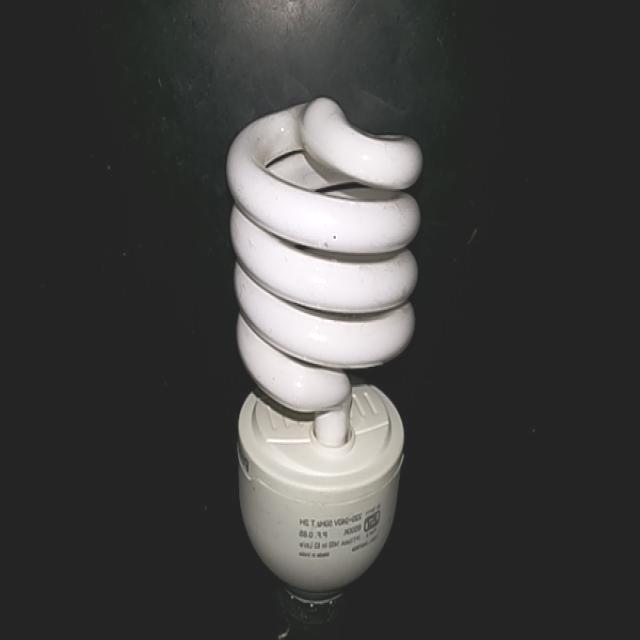lampu: (222, 84, 427, 611)
